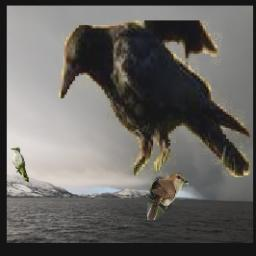Crow: (60, 21, 251, 178)
Cuckoo: (148, 173, 190, 221), (12, 146, 30, 183)
